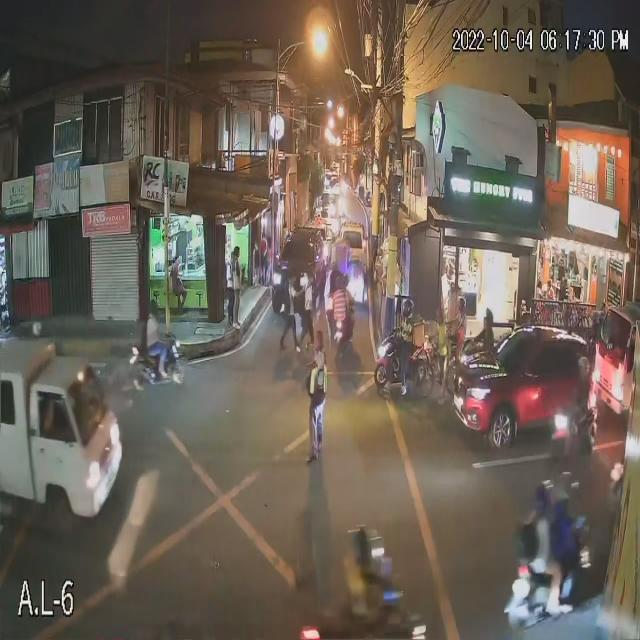helmet: (554, 476, 575, 494), (533, 483, 552, 501), (400, 302, 416, 317), (479, 317, 496, 329), (577, 356, 590, 371), (456, 301, 468, 315)
motorcycle: (504, 507, 595, 629), (296, 562, 426, 639), (544, 411, 599, 487), (373, 333, 429, 400), (125, 330, 186, 389), (328, 301, 357, 355)
rider: (519, 480, 576, 616), (344, 523, 401, 625), (552, 357, 594, 460), (140, 306, 177, 378), (389, 301, 417, 395), (327, 278, 350, 344), (453, 319, 465, 359)
